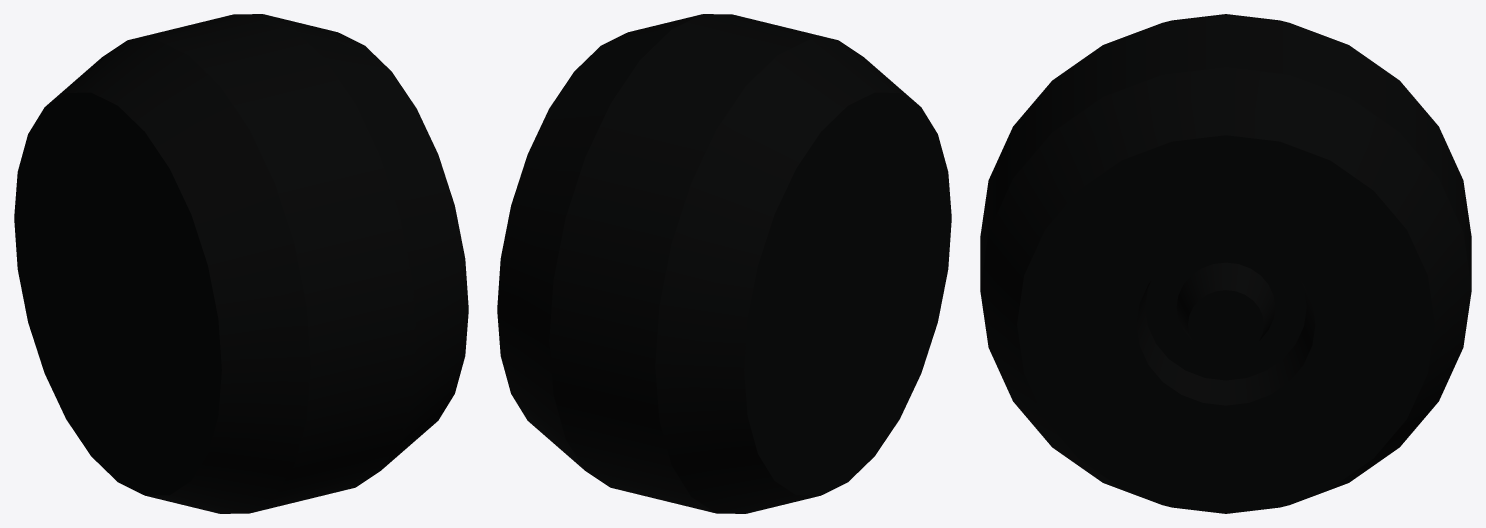
The model's file is wheel-truck.glb.
3 views of the same model, side by side, from view 1: azimuth 30°, elevation 25°; view 2: azimuth 150°, elevation 25°; view 3: azimuth 270°, elevation 25° (orthographic).
Parts seen in each view (by area): view 1: wheel-truck; view 2: wheel-truck; view 3: wheel-truck.
Boxes of the visible parts, bbox=[...] form: wheel-truck: bbox=[14, 14, 468, 513]; wheel-truck: bbox=[497, 14, 951, 513]; wheel-truck: bbox=[980, 14, 1471, 513].
Size of the model in its own units: 0.35 by 0.6 by 0.6.
1 material, 1 textured.
